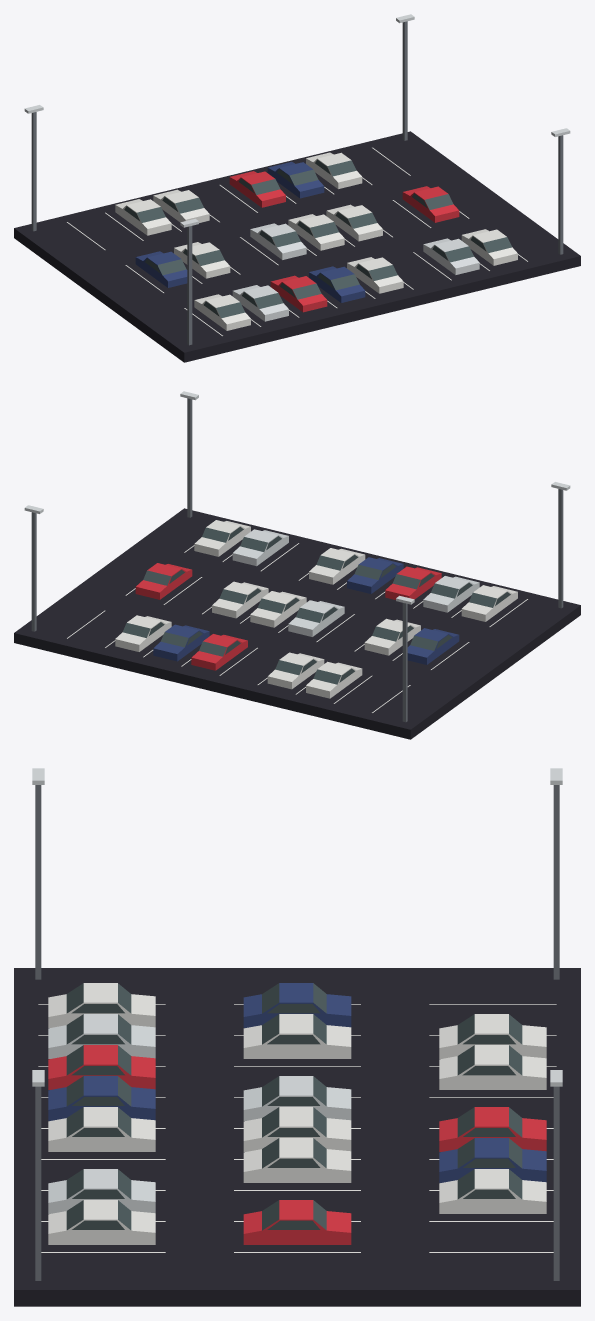
Rendered from mashup-yard-top-prebuilt.fbx.
The picture shows the model from 3 angles, top to bottom: view 1: azimuth 30°, elevation 25°; view 2: azimuth 150°, elevation 25°; view 3: azimuth 270°, elevation 25°; orthographic projection. The views are drawn at different scales.
Visible parts, largest first — view 1: a1029/0/mashup-yard-top-prebuilt; view 2: a1029/0/mashup-yard-top-prebuilt; view 3: a1029/0/mashup-yard-top-prebuilt.
Boxes of the visible parts, x1,y1,x2,y2 form: a1029/0/mashup-yard-top-prebuilt: (14, 14, 580, 362); a1029/0/mashup-yard-top-prebuilt: (14, 391, 580, 739); a1029/0/mashup-yard-top-prebuilt: (14, 768, 580, 1306).
Size of the model in its own units: 31.2 by 9.95 by 23.2.
